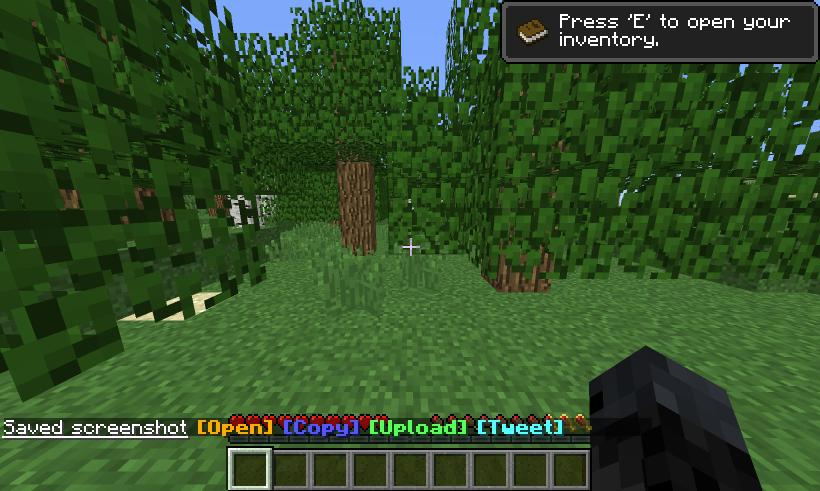minecraft-blocks: (337, 162, 377, 259)
